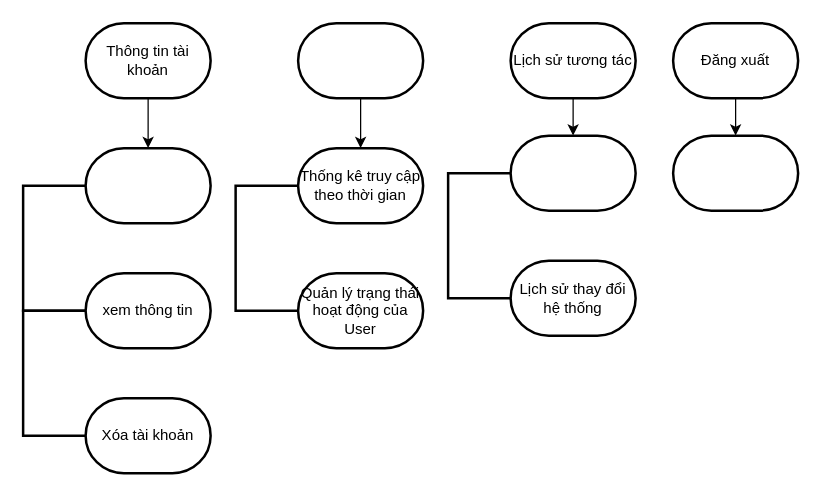
This 820x495 diagram has some shape labels left out. The shapes that lost their labels are listed below. From the top down, each one's box as (x1, y1, x2, y2) in pixels, then its label:
(296, 21, 424, 99): Báo cáo
(84, 146, 211, 224): Chỉnh sửa thông tin
(509, 134, 636, 211): Lịch sử đăng nhập
(671, 134, 799, 211): Đăng nhập
